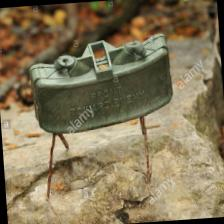MOH-50: (16, 35, 179, 135)
